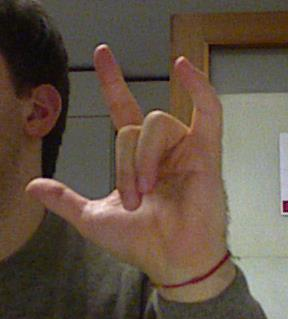back: (21, 46, 228, 278)
